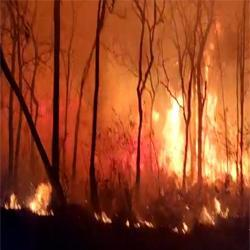fire: (204, 97, 247, 183), (161, 94, 188, 171), (30, 181, 56, 215)
